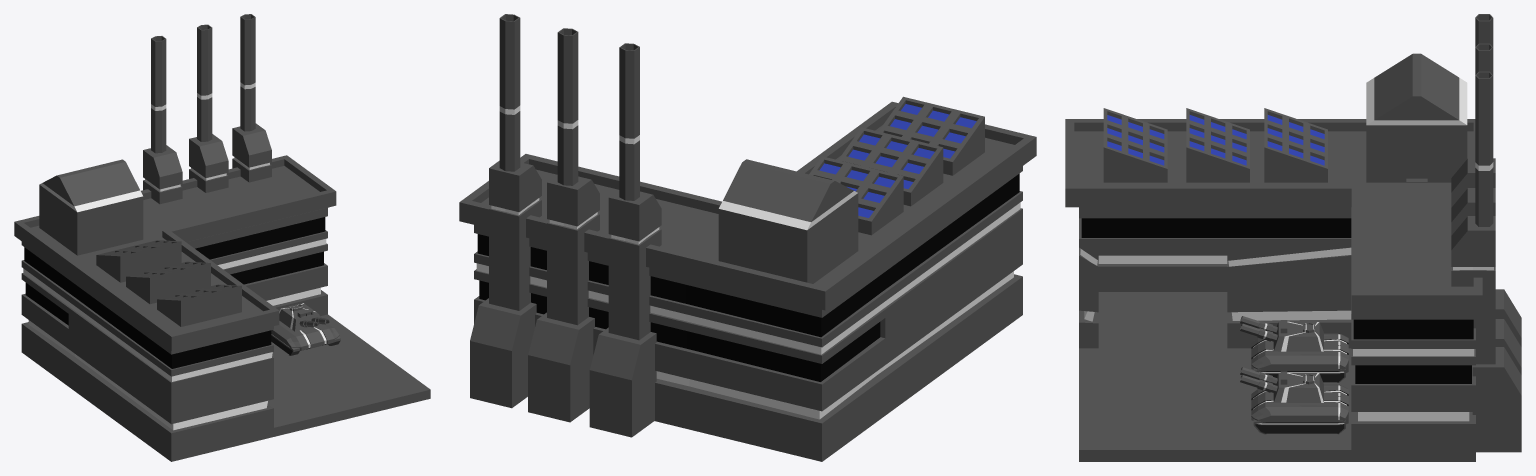
Rendered from CannonTankFactory.fbx.
3 renders of one model, left to right at view 1: azimuth 30°, elevation 25°; view 2: azimuth 150°, elevation 25°; view 3: azimuth 270°, elevation 25°, orthographic. The views are drawn at different scales.
Parts seen in each view (by area): view 1: CannonTankFactory; view 2: CannonTankFactory; view 3: CannonTankFactory.
Boxes of the visible parts, left/top/right/bottom form: CannonTankFactory: left=14, top=14, right=430, bottom=461; CannonTankFactory: left=459, top=14, right=1036, bottom=461; CannonTankFactory: left=1065, top=14, right=1521, bottom=461.
Bounding box in the file's own units: 11.86 × 11.52 × 12.97.
